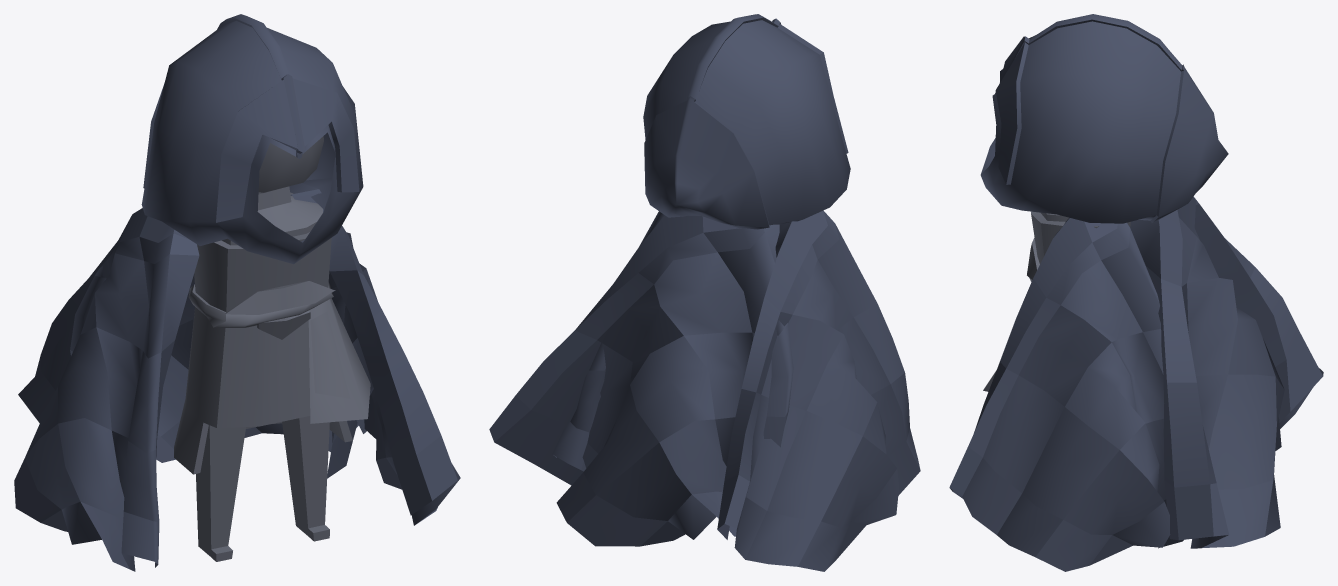
The model's file is ASSASSINSLAY.fbx.
3 renders of one model, left to right at view 1: azimuth 30°, elevation 25°; view 2: azimuth 150°, elevation 25°; view 3: azimuth 270°, elevation 25°, orthographic. The views are drawn at different scales.
Parts seen in each view (by area): view 1: body, polySurface4, hood, polySurface3, polySurface5; view 2: polySurface5, polySurface4, hood, polySurface3; view 3: polySurface3, hood, polySurface5, polySurface4, body.
Boxes of the visible parts, x1,y1,x2,y2 form: body: [174, 136, 370, 561]; polySurface4: [14, 208, 199, 571]; hood: [141, 14, 363, 264]; polySurface3: [289, 183, 460, 525]; polySurface5: [70, 266, 366, 462]; polySurface5: [489, 215, 793, 546]; polySurface4: [717, 210, 920, 571]; hood: [643, 14, 850, 229]; polySurface3: [552, 211, 665, 471]; polySurface3: [949, 217, 1183, 571]; hood: [980, 14, 1228, 223]; polySurface5: [1130, 197, 1284, 548]; polySurface4: [1193, 196, 1323, 428]; body: [983, 211, 1130, 391].
Size of the model in its own units: 3.92 by 5.04 by 3.47.
